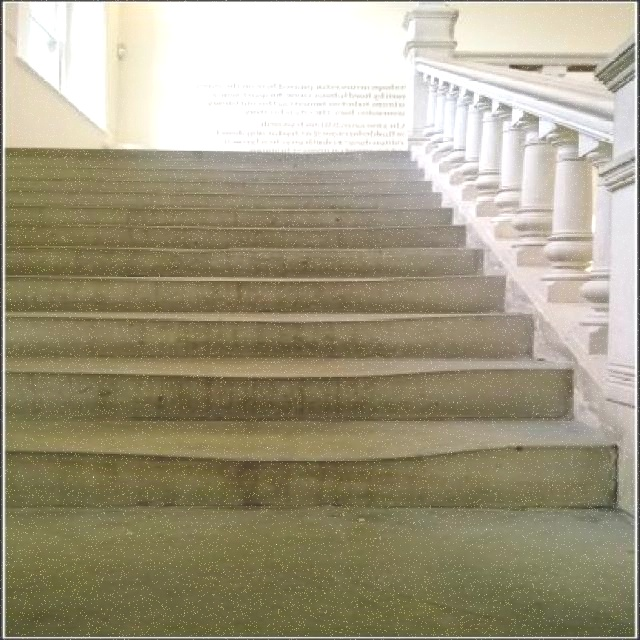stair: (6, 149, 619, 509)
